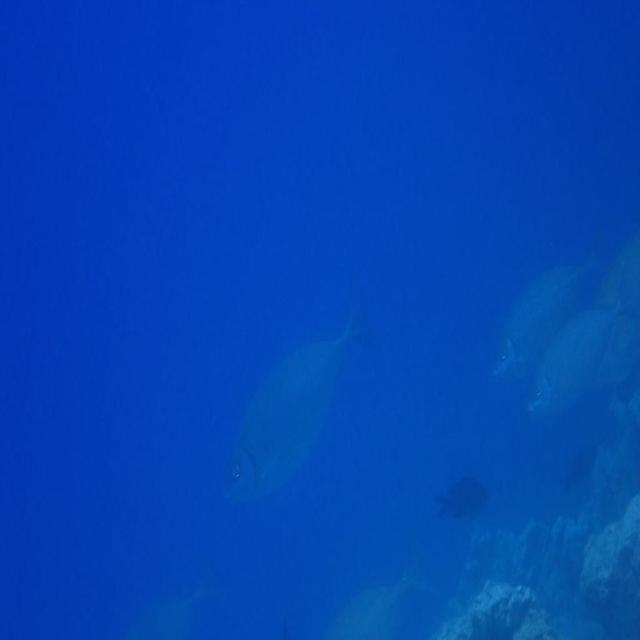Sokar Baligi: (218, 273, 378, 524)
